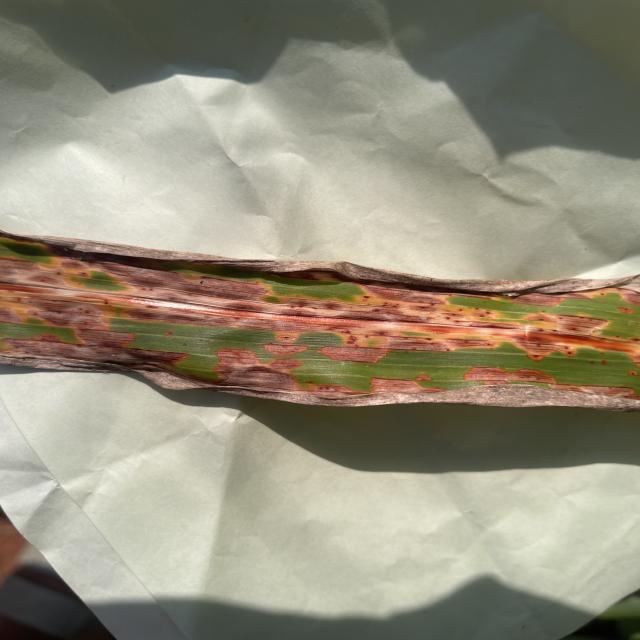millet_rust: (0, 232, 640, 409)
